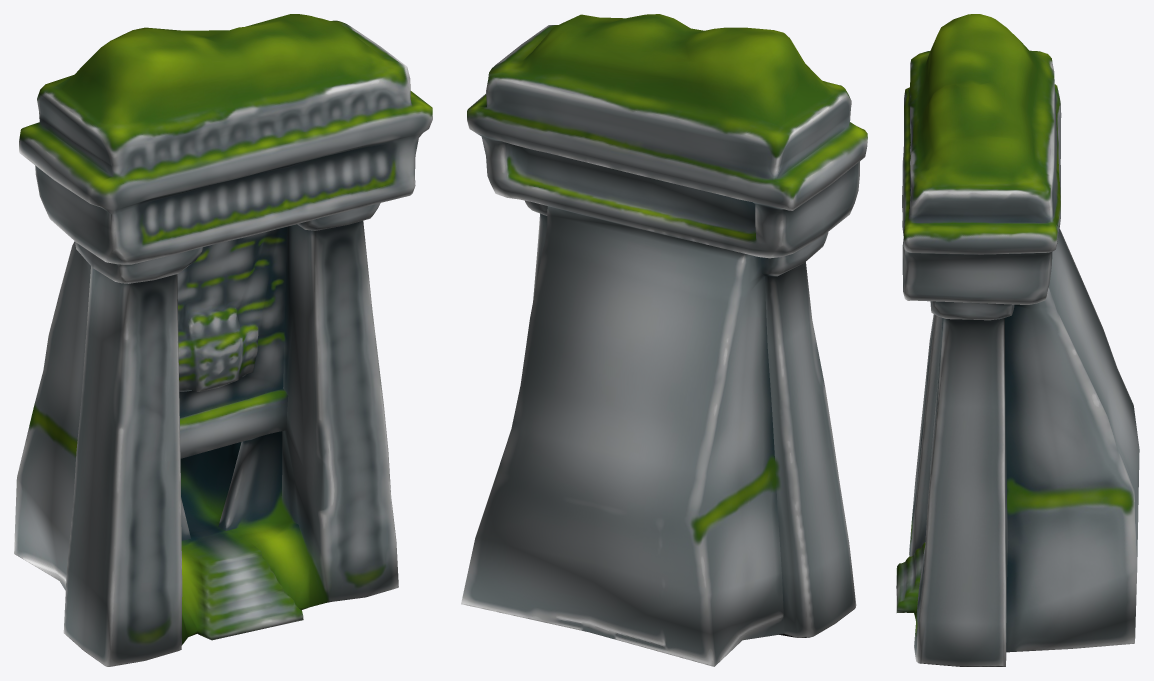
File: temple_edit_for_FBX.fbx
The picture shows the model from 3 angles, left to right: view 1: azimuth 30°, elevation 25°; view 2: azimuth 150°, elevation 25°; view 3: azimuth 270°, elevation 25°; orthographic projection. The views are drawn at different scales.
Parts seen in each view (by area): view 1: temple; view 2: temple; view 3: temple.
Boxes of the visible parts, x1,y1,x2,y2 form: temple: (14, 14, 432, 666); temple: (461, 14, 867, 666); temple: (896, 14, 1139, 666).
Bounding box in the file's own units: 448 × 747 × 301.
